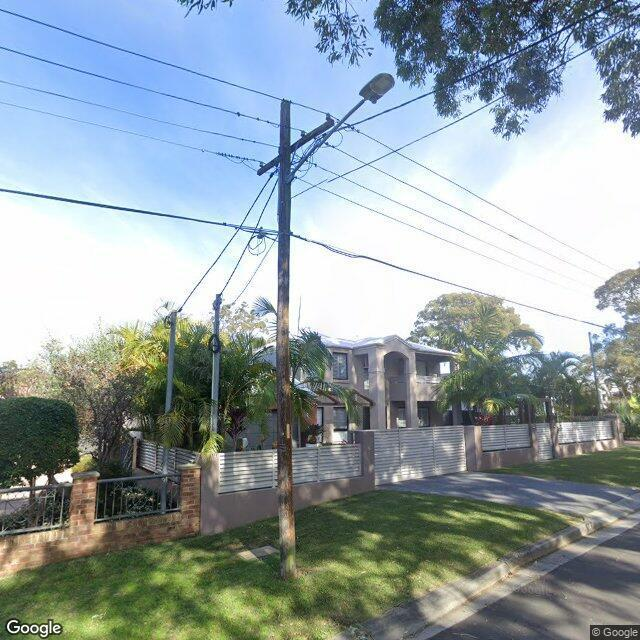crossarm: (256, 117, 335, 177)
streetlight: (289, 71, 397, 182)
timber-pole: (279, 96, 295, 582), (210, 293, 222, 441), (165, 311, 176, 411)
